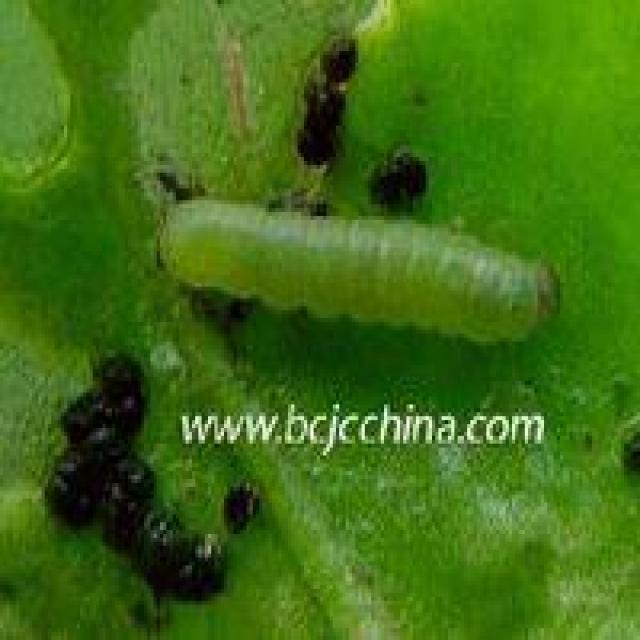BeetArmyWorm-Larva-: (144, 183, 571, 362)
